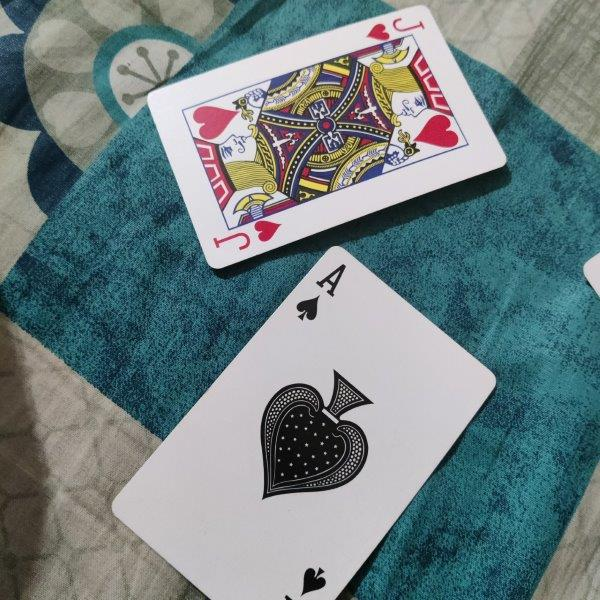Ace of Spades: (110, 245, 496, 600)
Jack of Hearts: (147, 4, 509, 270)
